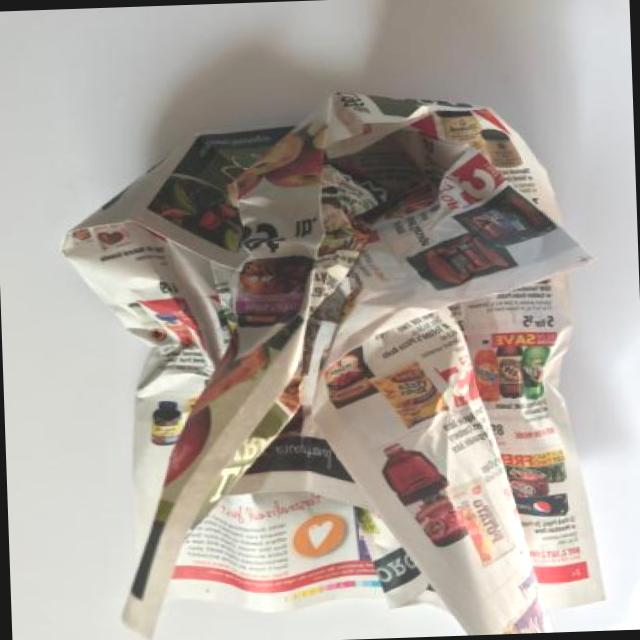paper: (76, 88, 605, 627)
